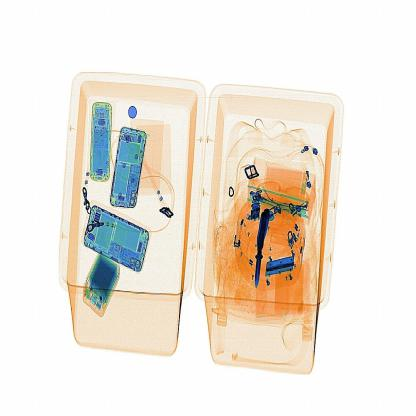gun: (248, 193, 272, 301)
